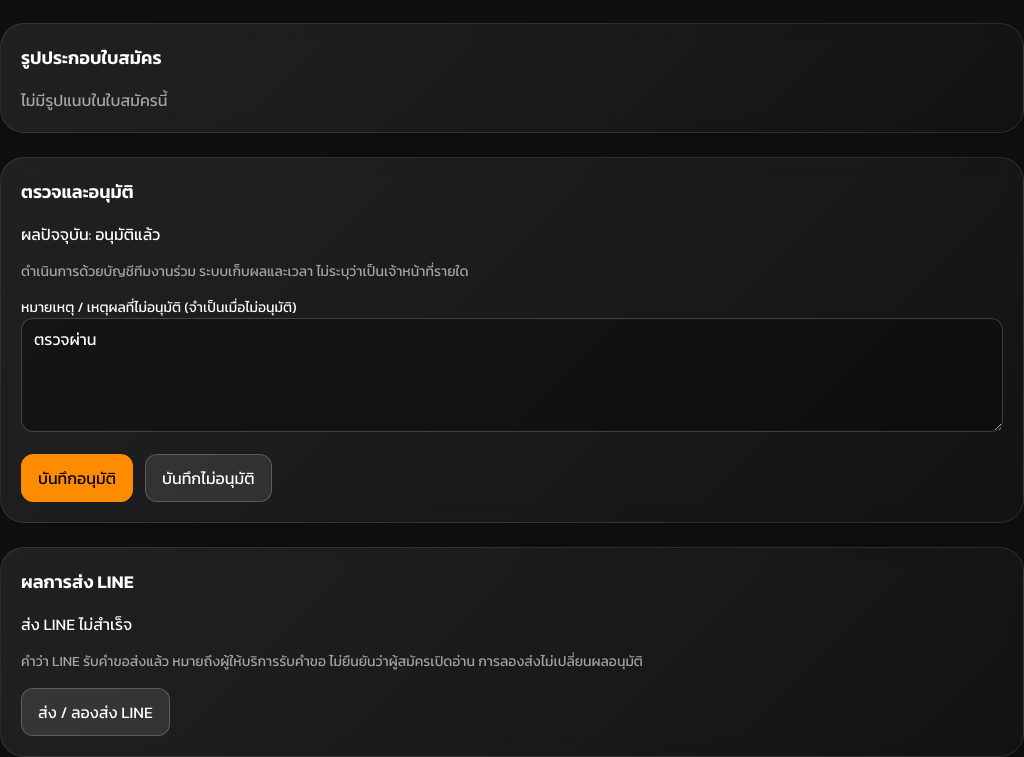
Scenario: retries only delivery with approval revision and preserves unsaved note
(page scrolled)
Replace the text in the text box with "ข้อความที่ยังไม่บันทึก". click: (512, 375)
box: [21,318,1003,432]
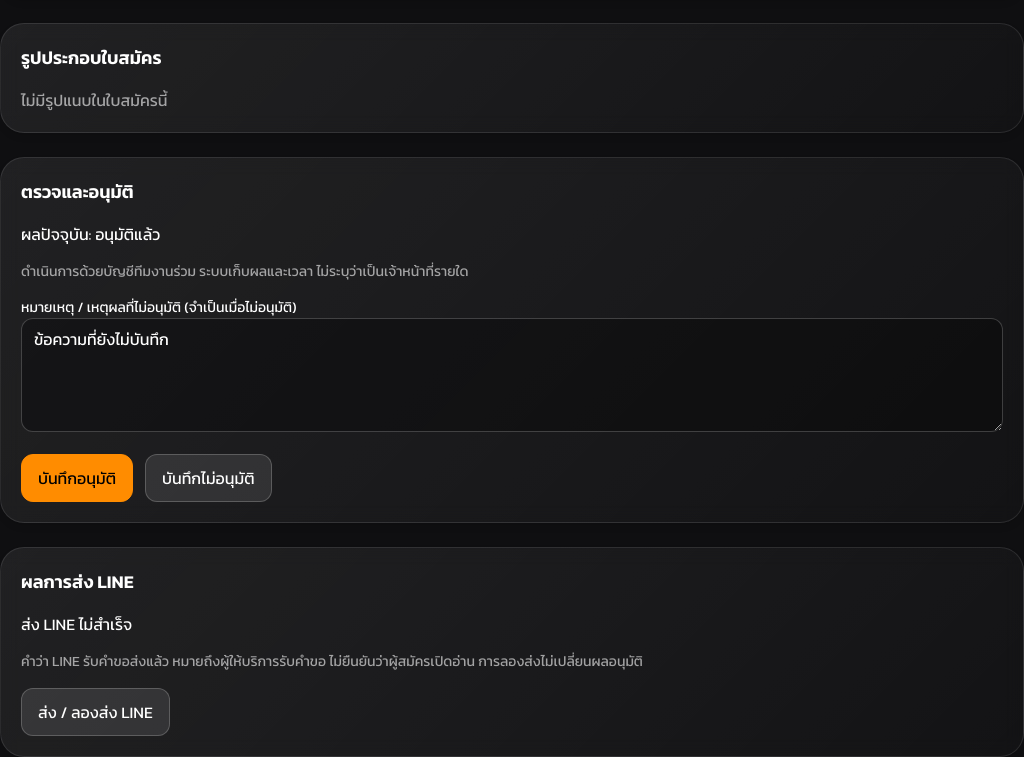
Click the button "ส่ง / ลองส่ง LINE". click: (95, 712)
box: [21,688,170,736]
(page scrolled)
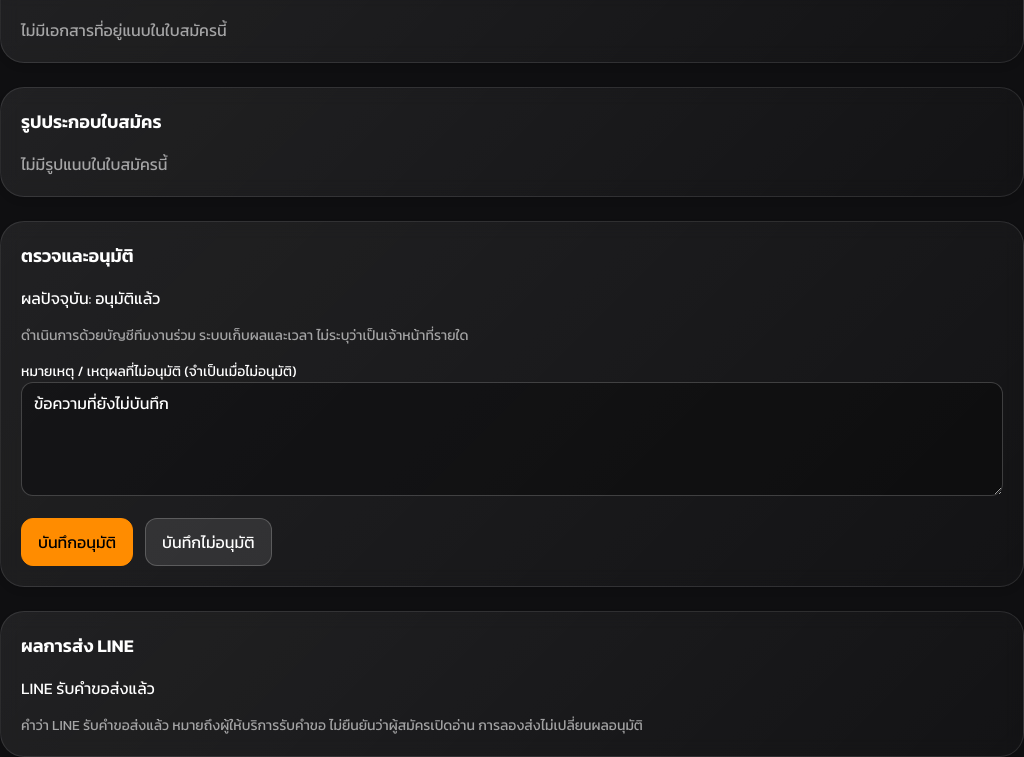
Expected: the text "LINE รับคำขอส่งแล้ว" is shown, [21,676,155,700]
Expected: the button "ส่ง / ลองส่ง LINE" is gone
